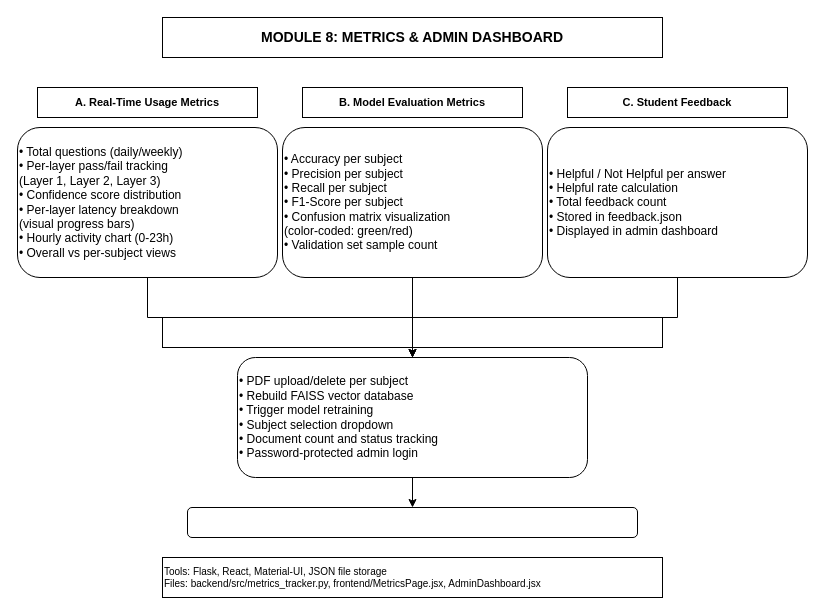
The diagram is 825 pixels wide and 615 high, and some of its shapes have lost their labels. The shapes that lost their labels are listed below. From the top down, each one's centre as x and y in pixels, then its label:
At pixel 412 332: "D. Admin Controls".
At pixel 412 522: "Storage: JSON files (usage_metrics.json, feedback.json, model_metrics.json)".
